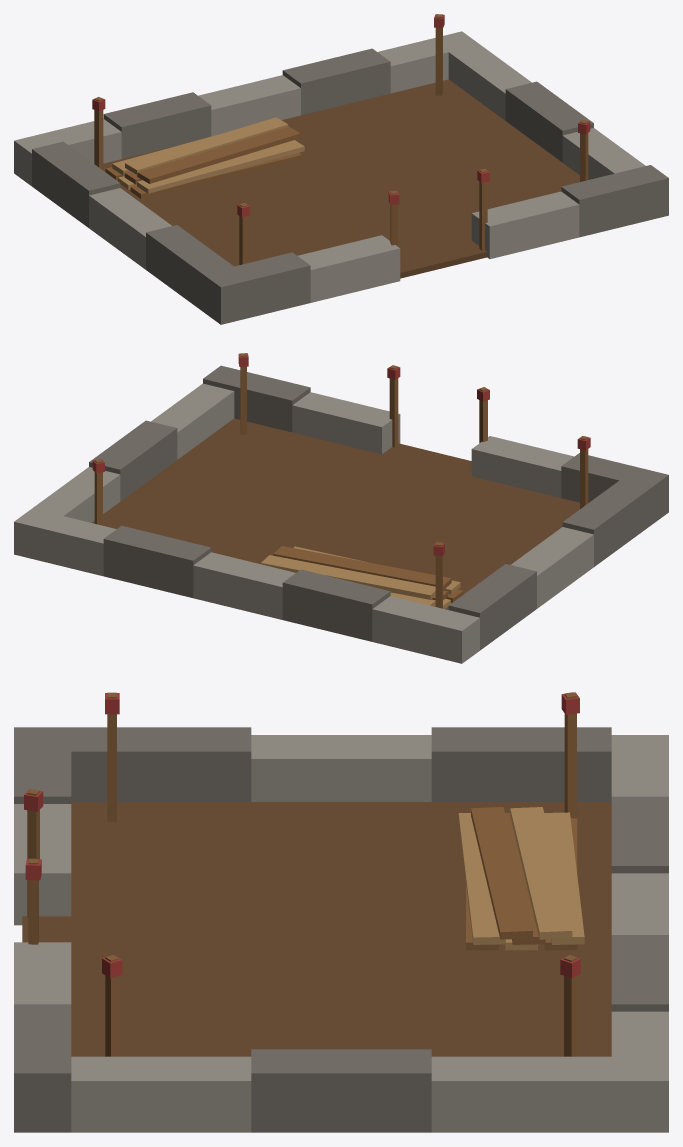
The model's file is site_5x4_1.glb.
3 views of the same model, one above another, from view 1: azimuth 30°, elevation 25°; view 2: azimuth 150°, elevation 25°; view 3: azimuth 270°, elevation 25° (orthographic). The views are drawn at different scales.
Parts seen in each view (by area): view 1: site_5x4_1; view 2: site_5x4_1; view 3: site_5x4_1.
Part boxes in pixels (bbox=[...]): site_5x4_1: bbox=[14, 14, 668, 324]; site_5x4_1: bbox=[14, 353, 668, 663]; site_5x4_1: bbox=[14, 692, 668, 1132].
Bounding box in the file's own units: 5 × 0.9 × 4.
